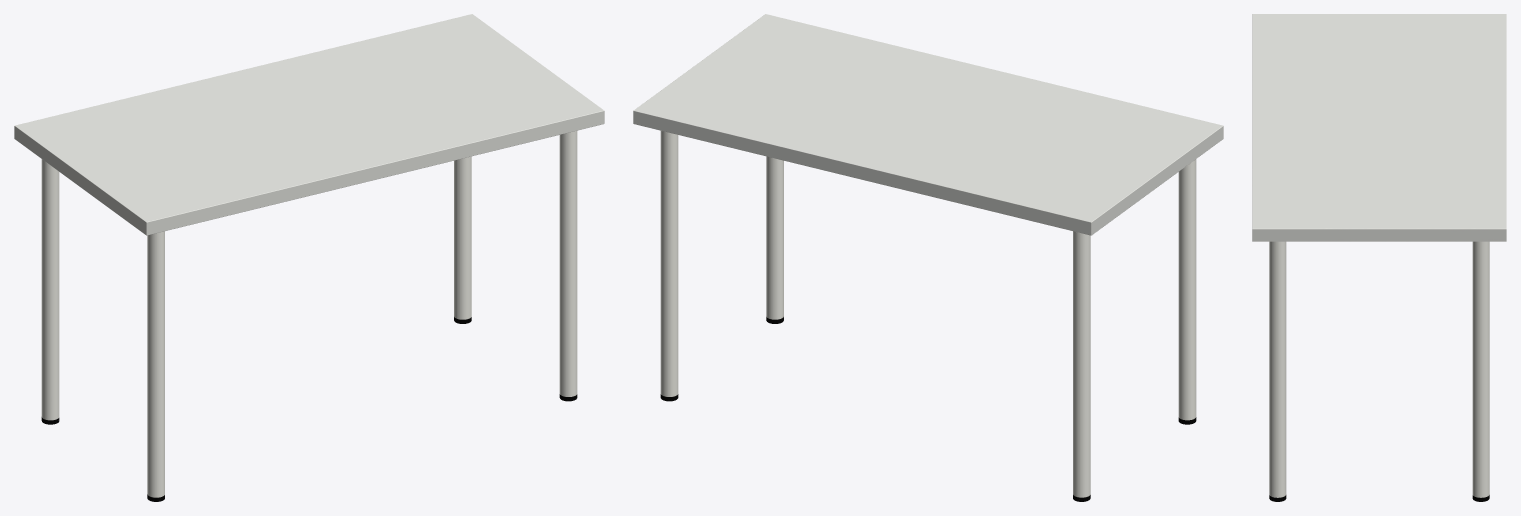
3 renders of one model, left to right at view 1: azimuth 30°, elevation 25°; view 2: azimuth 150°, elevation 25°; view 3: azimuth 270°, elevation 25°, orthographic. The views are drawn at different scales.
Parts seen in each view (by area): view 1: world; view 2: world; view 3: world.
Boxes of the visible parts, bbox=[...] form: world: bbox=[14, 14, 604, 501]; world: bbox=[633, 14, 1223, 501]; world: bbox=[1252, 14, 1506, 501].
Bounding box in the file's own units: 1.2 × 0.73 × 0.6.
1 material, 1 textured.
